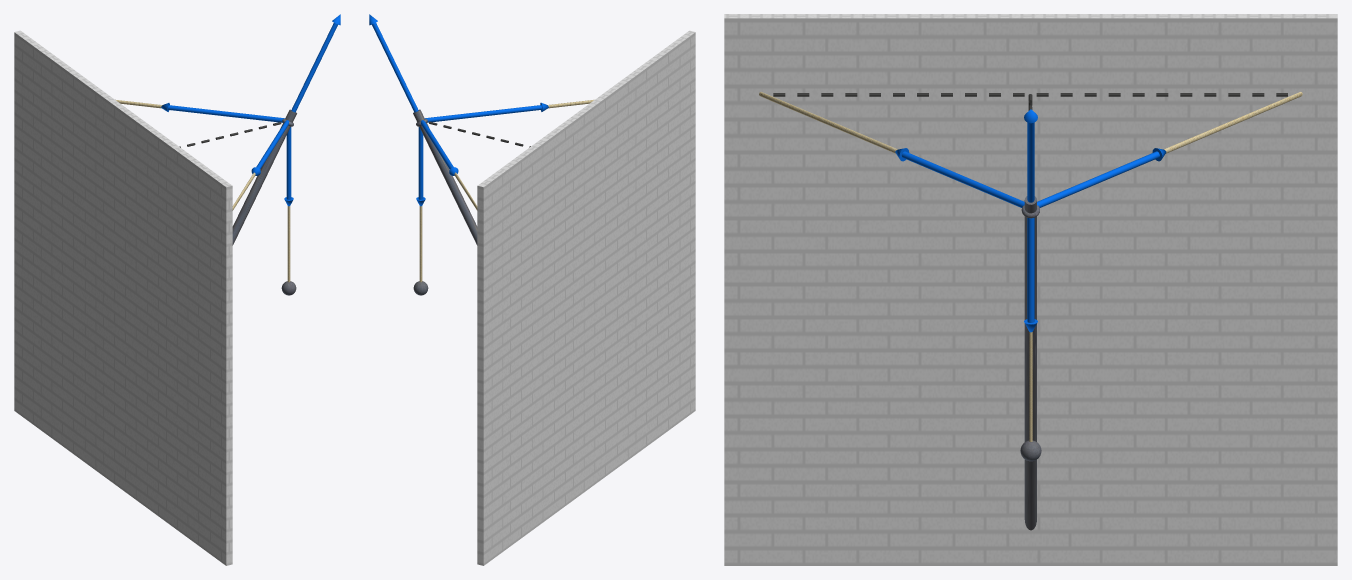
The model's file is xisheng.gltf.
The picture shows the model from 3 angles, left to right: view 1: azimuth 30°, elevation 25°; view 2: azimuth 150°, elevation 25°; view 3: azimuth 270°, elevation 25°; orthographic projection. The views are drawn at different scales.
Parts seen in each view (by area): view 1: Line003; view 2: Line003; view 3: Line003.
Part boxes in pixels (x1,y1,x2,y2): Line003: (14, 14, 340, 565); Line003: (369, 14, 695, 565); Line003: (724, 14, 1337, 565).
Bounding box in the file's own units: 105 × 191 × 174.
6 materials, 6 textured.
